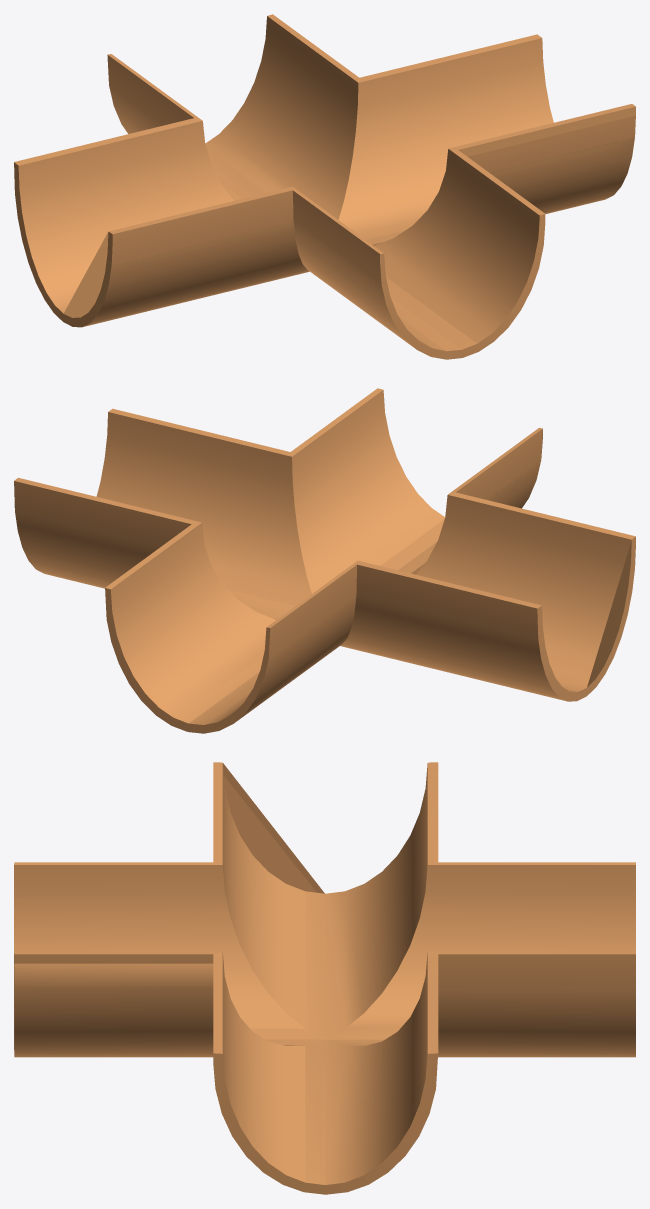
File: WAY  n2 fbx.fbx
3 renders of one model, top to bottom at view 1: azimuth 30°, elevation 25°; view 2: azimuth 150°, elevation 25°; view 3: azimuth 270°, elevation 25°, orthographic. The views are drawn at different scales.
Visible parts, largest first — view 1: Cube; view 2: Cube; view 3: Cube.
Boxes of the visible parts, x1,y1,x2,y2 form: Cube: (14, 14, 635, 359); Cube: (14, 388, 635, 733); Cube: (14, 762, 635, 1194).
Size of the model in its own units: 2191 by 496 by 1977.
